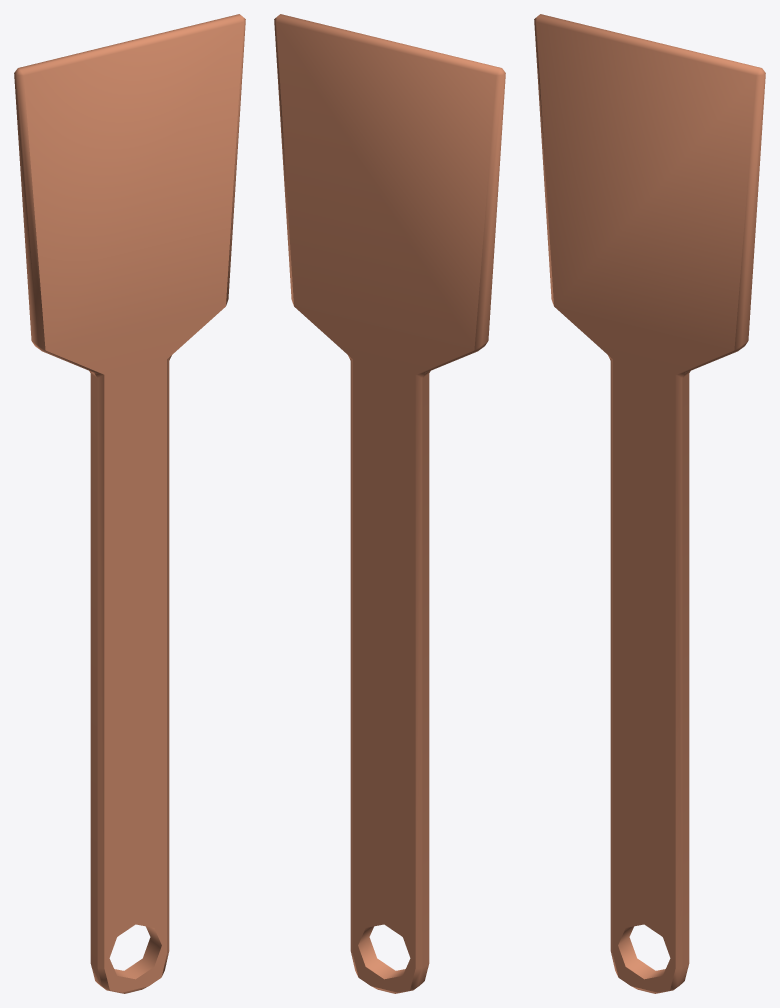
The model's file is Wooden Pad.glb.
The picture shows the model from 3 angles, left to right: view 1: azimuth 30°, elevation 25°; view 2: azimuth 150°, elevation 25°; view 3: azimuth 330°, elevation 25°; orthographic projection.
Parts seen in each view (by area): view 1: cutensils_wooden_paddle_Cube.001; view 2: cutensils_wooden_paddle_Cube.001; view 3: cutensils_wooden_paddle_Cube.001.
Boxes of the visible parts, <box> form: cutensils_wooden_paddle_Cube.001: <box>14,14,245,993</box>; cutensils_wooden_paddle_Cube.001: <box>274,14,505,993</box>; cutensils_wooden_paddle_Cube.001: <box>534,14,765,993</box>.
Size of the model in its own units: 1.78 by 7.02 by 0.1548.
Materials: 1 (1 with a texture image).
